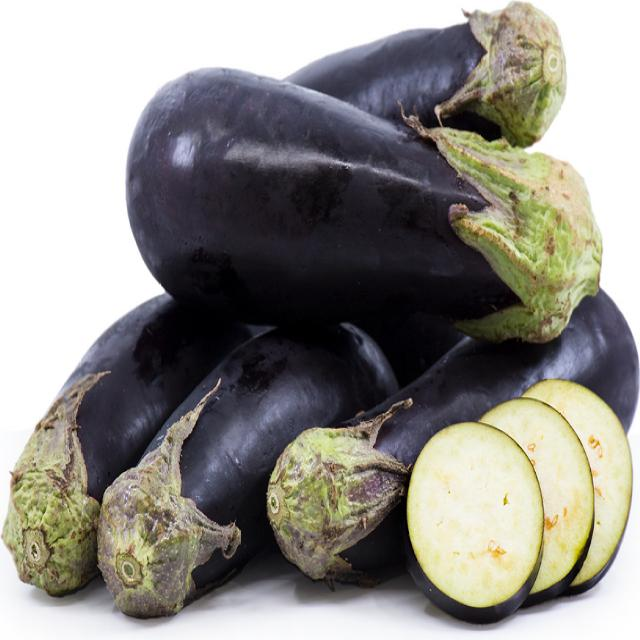Eggplant: (123, 67, 518, 318), (106, 343, 276, 610), (404, 420, 544, 618), (338, 3, 568, 110)
